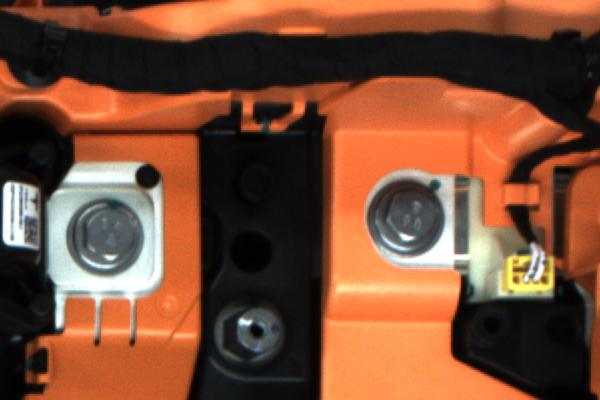nut_b: (52, 201, 156, 274), (359, 182, 446, 256)
